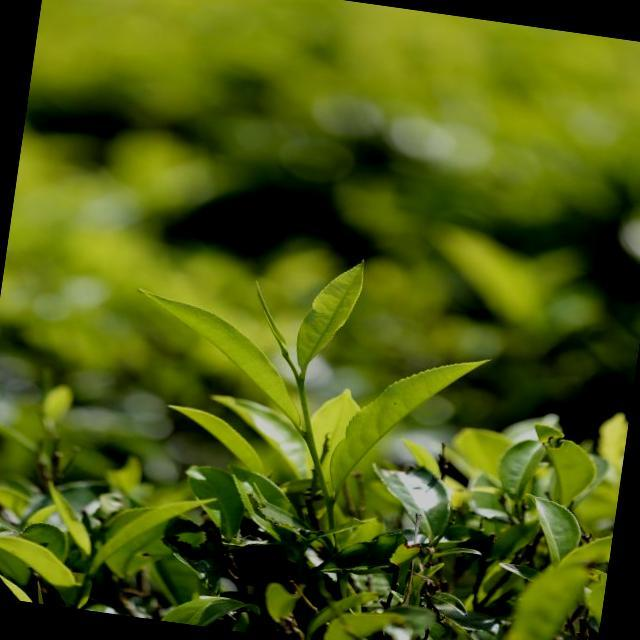Stem: (296, 377, 304, 384)
